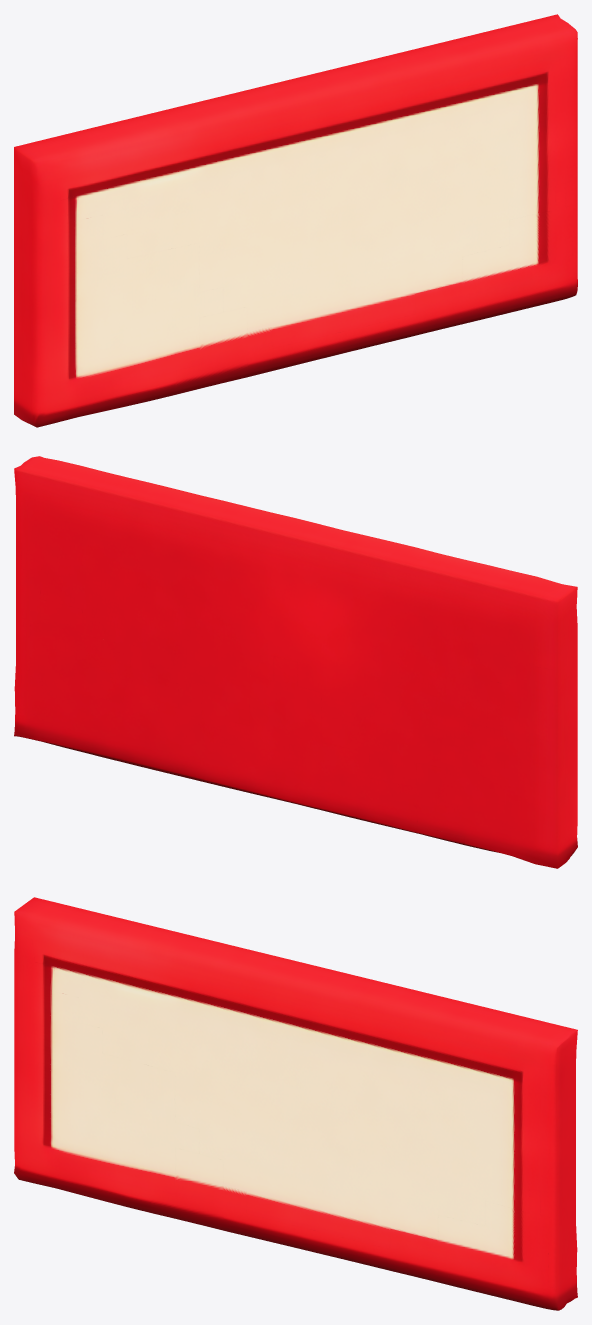
File: 10-frame-large.fbx
3 renders of one model, top to bottom at view 1: azimuth 30°, elevation 25°; view 2: azimuth 150°, elevation 25°; view 3: azimuth 330°, elevation 25°, orthographic.
Parts seen in each view (by area): view 1: model; view 2: model; view 3: model.
Part boxes in pixels (left/top/right/bottom): model: left=14, top=14, right=577, bottom=427; model: left=14, top=456, right=577, bottom=868; model: left=14, top=897, right=577, bottom=1310.
Size of the model in its own units: 189 by 88.89 by 14.69.
